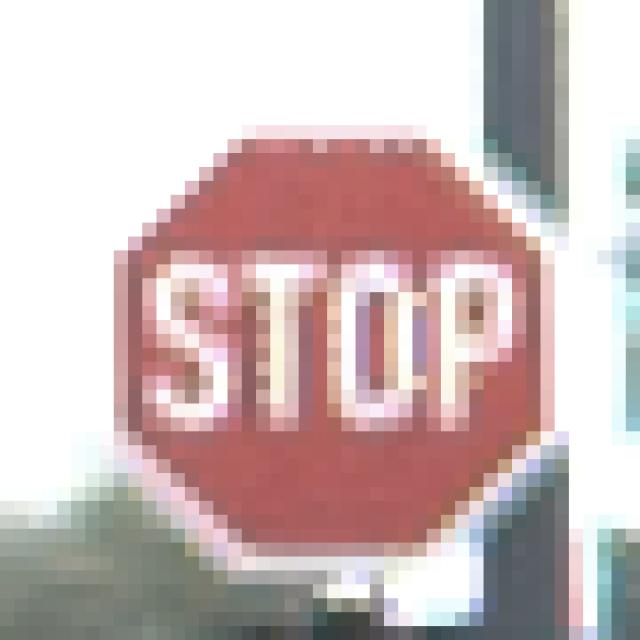STOP: (86, 85, 570, 572)
